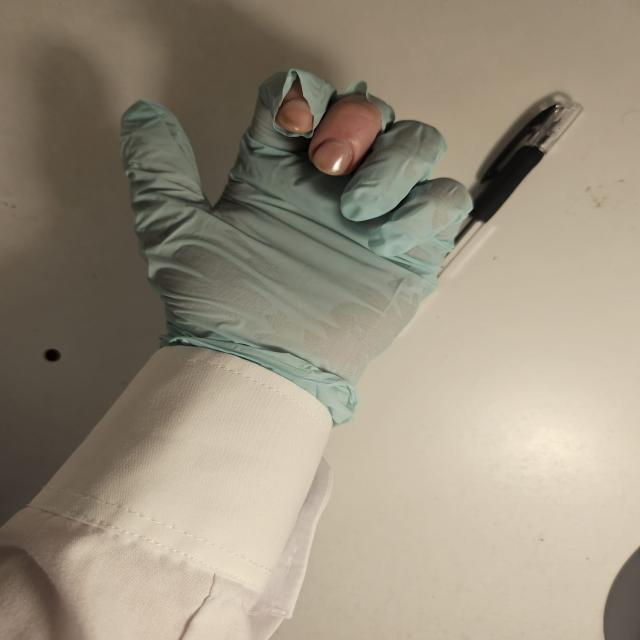gloves_damaged: (115, 65, 474, 418)
